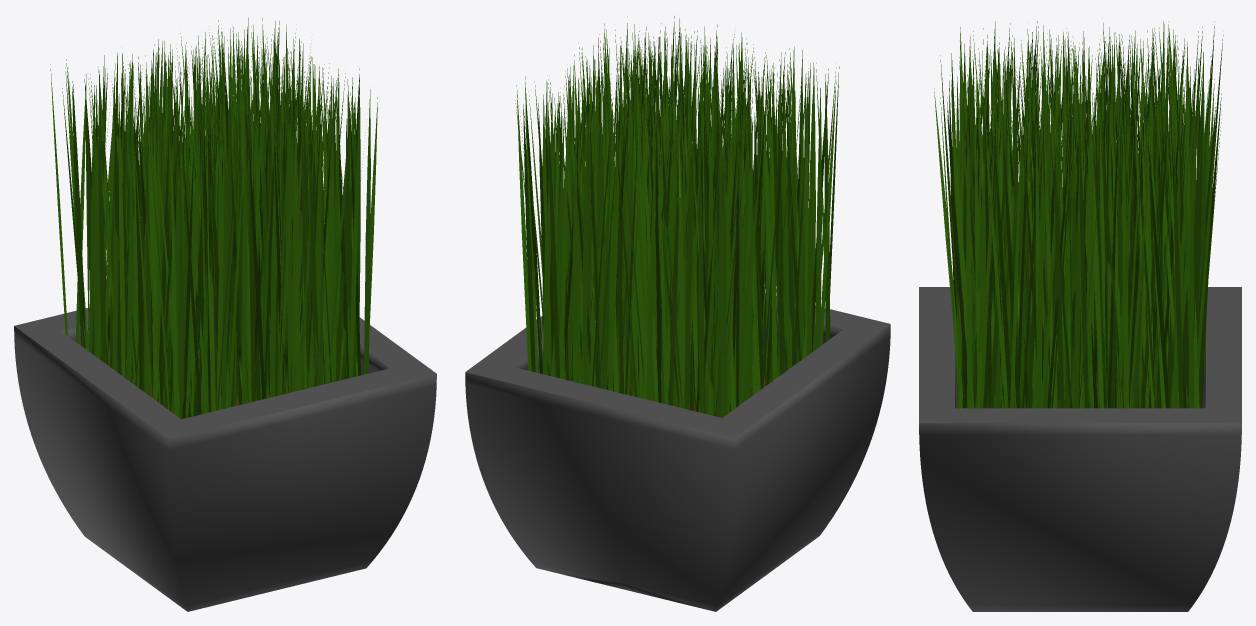
File: pot.glb
The picture shows the model from 3 angles, left to right: view 1: azimuth 30°, elevation 25°; view 2: azimuth 150°, elevation 25°; view 3: azimuth 270°, elevation 25°; orthographic projection. The views are drawn at different scales.
Parts seen in each view (by area): view 1: grass, pot; view 2: grass, pot; view 3: grass, pot.
Part boxes in pixels (x1=…): grass: x1=50, y1=18, x2=377, y2=419; pot: x1=14, y1=307, x2=436, y2=611; grass: x1=515, y1=16, x2=839, y2=417; pot: x1=465, y1=293, x2=890, y2=611; grass: x1=934, y1=18, x2=1223, y2=408; pot: x1=919, y1=287, x2=1241, y2=611.
Size of the model in its own units: 0.09 by 0.151 by 0.09.
